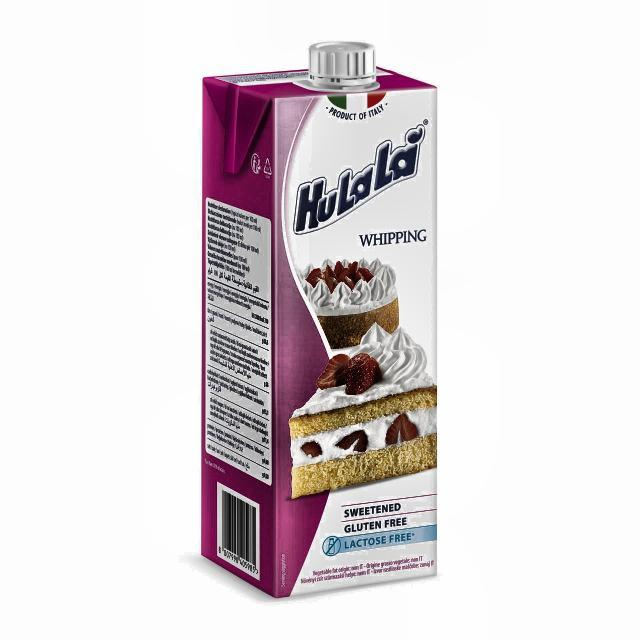cardboard: (199, 44, 439, 598)
